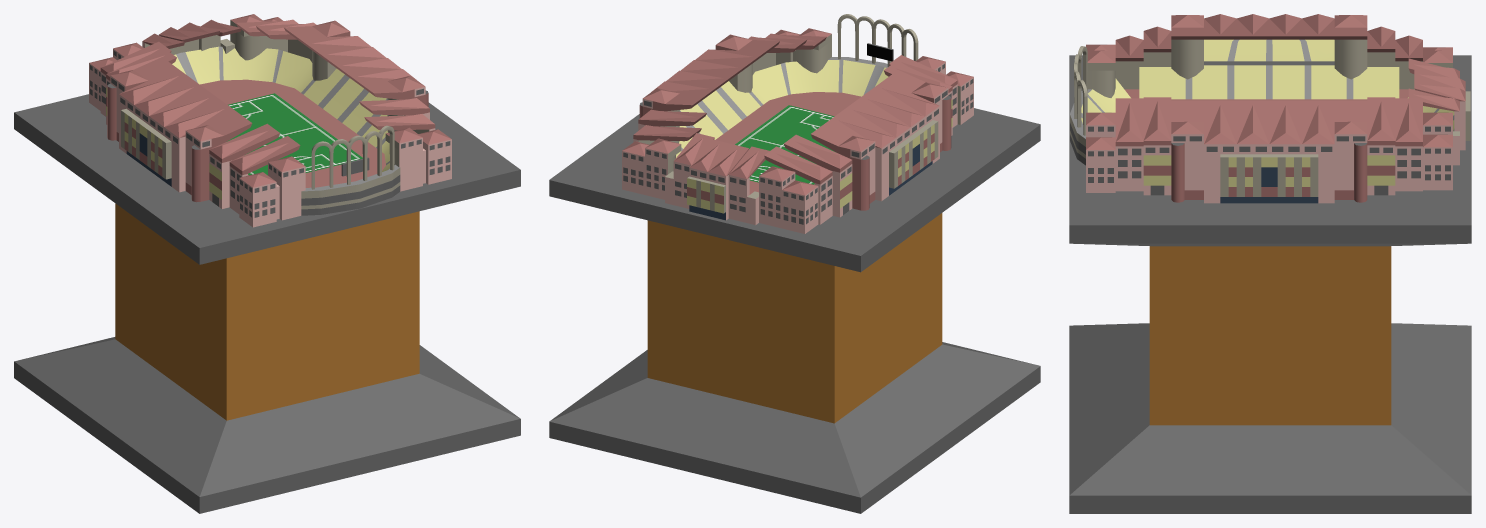
File: FSt_Fra_004.FBX
3 views of the same model, side by side, from view 1: azimuth 30°, elevation 25°; view 2: azimuth 150°, elevation 25°; view 3: azimuth 270°, elevation 25° (orthographic). The views are drawn at different scales.
Visible parts, largest first — view 1: FSt_Fra_004; view 2: FSt_Fra_004; view 3: FSt_Fra_004.
Boxes of the visible parts, x1,y1,x2,y2 form: FSt_Fra_004: (14, 14, 520, 513); FSt_Fra_004: (549, 14, 1040, 513); FSt_Fra_004: (1069, 14, 1471, 513).
Bounding box in the file's own units: 1000 × 1000 × 1000.
